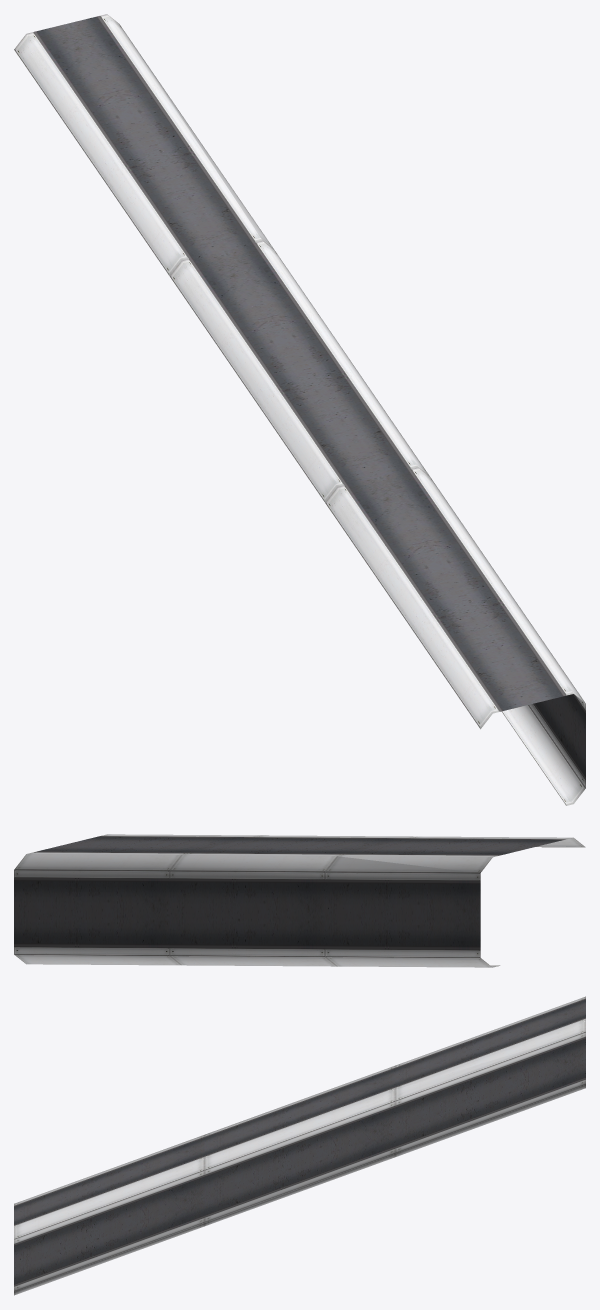
Rendered from GroundTrimCap_Stairs_S.FBX.
3 views of the same model, one above another, from view 1: azimuth 30°, elevation 25°; view 2: azimuth 210°, elevation 25°; view 3: azimuth 270°, elevation 25° (orthographic). The views are drawn at different scales.
Visible parts, largest first — view 1: GroundTrimCap_Stairs_S; view 2: GroundTrimCap_Stairs_S; view 3: GroundTrimCap_Stairs_S.
Part boxes in pixels (<box>): GroundTrimCap_Stairs_S: <box>14,14,585,805</box>; GroundTrimCap_Stairs_S: <box>14,834,585,967</box>; GroundTrimCap_Stairs_S: <box>14,996,585,1295</box>.
Size of the model in its own units: 1.3 by 5.3 by 10.
